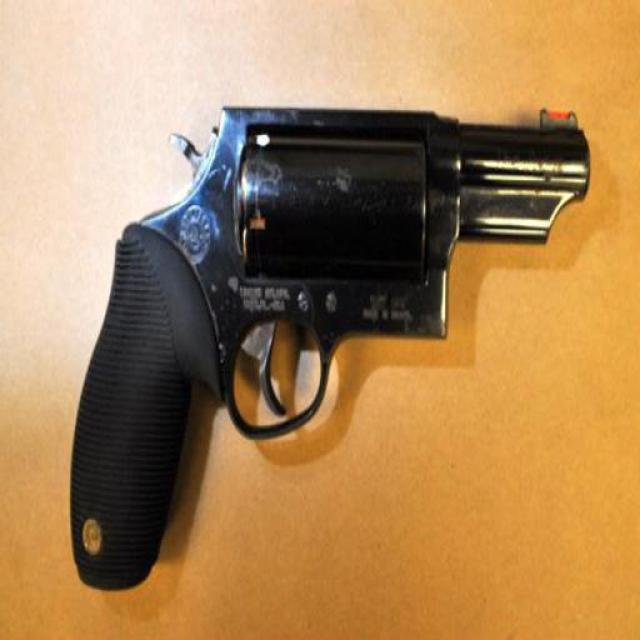pistol: (75, 86, 591, 591)
